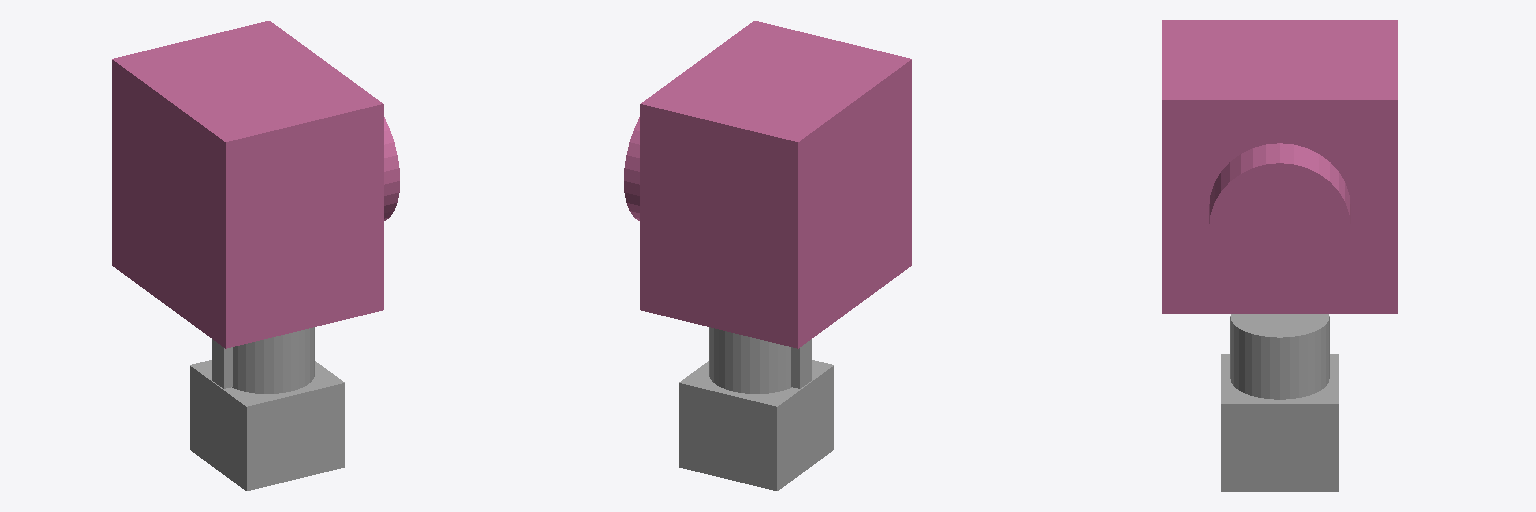
robot.urdf — robot:
<?xml version="1.0" ?>
<robot name="robot">
  <joint name="right_front" type="revolute">
    <parent link="base_link"/>
    <child link="right_front_wheel"/>
    <origin rpy="1.5707  0      0" xyz="0.125 -0.201  0.12"/>
    <axis xyz="0.00000000e+00   9.00000000e-05  -1.00000000e+00"/>
    <limit effort="0" lower="0" upper="0" velocity="0"/>
  </joint>
  <joint name="right_rear" type="revolute">
    <parent link="base_link"/>
    <child link="right_rear_wheel"/>
    <origin rpy="1.5707  0      0" xyz="-0.125 -0.201  0.12"/>
    <axis xyz="0.00000000e+00   9.00000000e-05  -1.00000000e+00"/>
    <limit effort="0" lower="0" upper="0" velocity="0"/>
  </joint>
  <joint name="left_front" type="revolute">
    <parent link="base_link"/>
    <child link="left_front_wheel"/>
    <origin rpy="1.5707  0      0" xyz="0.125  0.201  0.12"/>
    <axis xyz="0.00000000e+00   9.00000000e-05  -1.00000000e+00"/>
    <limit effort="0" lower="0" upper="0" velocity="0"/>
  </joint>
  <joint name="left_rear" type="revolute">
    <parent link="base_link"/>
    <child link="left_rear_wheel"/>
    <origin rpy="1.5707  0      0" xyz="-0.125  0.201  0.12"/>
    <axis xyz="0.00000000e+00   9.00000000e-05  -1.00000000e+00"/>
    <limit effort="0" lower="0" upper="0" velocity="0"/>
  </joint>
  <joint name="camera_joint" type="fixed">
    <parent link="base_link"/>
    <child link="camera_link"/>
    <origin rpy="0  0  0" xyz="0.1   0    0.45"/>
    <axis xyz="0  0  1"/>
    <limit effort="0.0" lower="0.0" upper="0.0" velocity="0.0"/>
  </joint>
  <joint name="hokuyo_joint" type="fixed">
    <parent link="base_link"/>
    <child link="hokuyo_link"/>
    <origin rpy="0  0  0" xyz="0.1   0    0.35"/>
    <axis xyz="0  0  1"/>
    <limit effort="0.0" lower="0.0" upper="0.0" velocity="0.0"/>
  </joint>
  <link name="dummy">
  </link>
  <link name="base_link">
    <inertial>
      <mass value="14.0"/>
      <origin rpy="0  0  0" xyz="0    0    0.18"/>
      <inertia ixx="0.147116667" ixy="0.0" ixz="0.0" iyy="0.334951167" iyz="0.0" izz="0.3978345"/>
    </inertial>
    <collision name="collision1">
      <origin rpy="0  0  0" xyz="0    0    0.18"/>
      <geometry>
        <box size="0.501 0.300 0.19"/>
      </geometry>
    </collision>
    <visual name="visual1">
      <origin rpy="0  0  0" xyz="0    0    0.18"/>
      <geometry>
        <mesh filename="package://rvrl_description/meshes/p3at/chassis.dae" scale="1.0 1.0 1.0"/>
      </geometry>
    </visual>
  </link>
  <joint name="dummy_joint" type="fixed">
    <parent link="dummy"/>
    <child link="base_link"/>
  </joint>
  <link name="right_front_wheel">
    <inertial>
      <mass value="1.5"/>
      <origin rpy="0  0  0" xyz="0  0  0"/>
      <inertia ixx="0.005240625" ixy="0" ixz="0" iyy="0.005240625" iyz="0" izz="0.009075"/>
    </inertial>
    <collision name="collision">
      <origin rpy="0  0  0" xyz="0  0  0"/>
      <geometry>
        <cylinder length="0.075" radius="0.110"/>
      </geometry>
    </collision>
    <visual name="visual">
      <origin rpy="0  0  0" xyz="0  0  0"/>
      <geometry>
        <mesh filename="package://rvrl_description/meshes/p3at/wheel.dae" scale="1.0 1.0 1.0"/>
      </geometry>
    </visual>
  </link>
  <link name="left_front_wheel">
    <inertial>
      <mass value="1.5"/>
      <origin rpy="0  0  0" xyz="0  0  0"/>
      <inertia ixx="0.005240625" ixy="0" ixz="0" iyy="0.005240625" iyz="0" izz="0.009075"/>
    </inertial>
    <collision name="collision">
      <origin rpy="0  0  0" xyz="0  0  0"/>
      <geometry>
        <cylinder length="0.075" radius="0.110"/>
      </geometry>
    </collision>
    <visual name="visual">
      <origin rpy="0  0  0" xyz="0  0  0"/>
      <geometry>
        <mesh filename="package://rvrl_description/meshes/p3at/wheel.dae" scale="1.0 1.0 1.0"/>
      </geometry>
    </visual>
  </link>
  <link name="right_rear_wheel">
    <inertial>
      <mass value="1.5"/>
      <origin rpy="0  0  0" xyz="0  0  0"/>
      <inertia ixx="0.005240625" ixy="0" ixz="0" iyy="0.005240625" iyz="0" izz="0.009075"/>
    </inertial>
    <collision name="collision">
      <origin rpy="0  0  0" xyz="0  0  0"/>
      <geometry>
        <cylinder length="0.075" radius="0.110"/>
      </geometry>
    </collision>
    <visual name="visual">
      <origin rpy="0  0  0" xyz="0  0  0"/>
      <geometry>
        <mesh filename="package://rvrl_description/meshes/p3at/wheel.dae" scale="1.0 1.0 1.0"/>
      </geometry>
    </visual>
  </link>
  <link name="left_rear_wheel">
    <inertial>
      <mass value="1.5"/>
      <origin rpy="0  0  0" xyz="0  0  0"/>
      <inertia ixx="0.005240625" ixy="0" ixz="0" iyy="0.005240625" iyz="0" izz="0.009075"/>
    </inertial>
    <collision name="collision">
      <origin rpy="0  0  0" xyz="0  0  0"/>
      <geometry>
        <cylinder length="0.075" radius="0.110"/>
      </geometry>
    </collision>
    <visual name="visual">
      <origin rpy="0  0  0" xyz="0  0  0"/>
      <geometry>
        <mesh filename="package://rvrl_description/meshes/p3at/wheel.dae" scale="1.0 1.0 1.0"/>
      </geometry>
    </visual>
  </link>
  <link name="camera_link">
    <inertial>
      <mass value="0.1"/>
      <origin rpy="0  0  0" xyz="0  0  0"/>
      <inertia ixx="0.000166667" ixy="0" ixz="0" iyy="0.000166667" iyz="0" izz="0.000166667"/>
    </inertial>
    <collision name="collision-box">
      <origin rpy="0  0  0" xyz="-0.01  0    0"/>
      <geometry>
        <box size="0.08 0.1 0.1"/>
      </geometry>
    </collision>
    <collision name="collision-lens">
      <origin rpy="0    1.57  0" xyz="0.04  0    0"/>
      <geometry>
        <cylinder length="0.02" radius="0.03"/>
      </geometry>
    </collision>
    <visual name="visual-box">
      <origin rpy="0  0  0" xyz="-0.01  0    0"/>
      <geometry>
        <box size="0.08 0.1 0.1"/>
      </geometry>
    </visual>
    <visual name="visual-lens">
      <origin rpy="0    1.57  0" xyz="0.04  0    0"/>
      <geometry>
        <cylinder length="0.02" radius="0.03"/>
      </geometry>
    </visual>
  </link>
  <link name="hokuyo_link">
    <inertial>
      <mass value="0.1"/>
      <origin rpy="0  0  0" xyz="0  0  0"/>
      <inertia ixx="0.6205208333e-04" ixy="0" ixz="0" iyy="0.6205208333e-04" iyz="0" izz="4.1927083333e-05"/>
    </inertial>
    <collision name="collision-base">
      <origin rpy="0  0  0" xyz="0      0     -0.0145"/>
      <geometry>
        <box size="0.05 0.05 0.041"/>
      </geometry>
    </collision>
    <collision name="collision-top">
      <origin rpy="0  0  0" xyz="0      0      0.0205"/>
      <geometry>
        <cylinder length="0.029" radius="0.021"/>
      </geometry>
    </collision>
    <visual name="visual-base">
      <origin rpy="0  0  0" xyz="0      0     -0.0145"/>
      <geometry>
        <box size="0.05 0.05 0.041"/>
      </geometry>
    </visual>
    <visual name="visual-top">
      <origin rpy="0  0  0" xyz="0      0      0.0205"/>
      <geometry>
        <cylinder length="0.029" radius="0.021"/>
      </geometry>
    </visual>
    <visual name="visual-top-back">
      <origin rpy="0  0  0" xyz="-0.02   0     0.019"/>
      <geometry>
        <box size="0.01 0.01 0.025"/>
      </geometry>
    </visual>
  </link>
  <transmission name="right_front_transmssion">
    <type>transmission_interface/SimpleTransmission</type>
    <joint name="right_front">
      <hardwareInterface>hardware_interface/EffortJointInterface</hardwareInterface>
      <mechanicalReduction>1</mechanicalReduction>
    </joint>
    <actuator name="right_front_motor">
      <hardwareInterface>hardware_interface/EffortJointInterface</hardwareInterface>
      <mechanicalReduction>1</mechanicalReduction>
    </actuator>
  </transmission>
  <transmission name="right_rear_transmssion">
    <type>transmission_interface/SimpleTransmission</type>
    <joint name="right_rear">
      <hardwareInterface>hardware_interface/EffortJointInterface</hardwareInterface>
      <mechanicalReduction>1</mechanicalReduction>
    </joint>
    <actuator name="right_rear_motor">
      <hardwareInterface>hardware_interface/EffortJointInterface</hardwareInterface>
      <mechanicalReduction>1</mechanicalReduction>
    </actuator>
  </transmission>
  <transmission name="left_front_transmssion">
    <type>transmission_interface/SimpleTransmission</type>
    <joint name="left_front">
      <hardwareInterface>hardware_interface/EffortJointInterface</hardwareInterface>
      <mechanicalReduction>1</mechanicalReduction>
    </joint>
    <actuator name="left_front_motor">
      <hardwareInterface>hardware_interface/EffortJointInterface</hardwareInterface>
      <mechanicalReduction>1</mechanicalReduction>
    </actuator>
  </transmission>
  <transmission name="left_rear_transmssion">
    <type>transmission_interface/SimpleTransmission</type>
    <joint name="left_rear">
      <hardwareInterface>hardware_interface/EffortJointInterface</hardwareInterface>
      <mechanicalReduction>1</mechanicalReduction>
    </joint>
    <actuator name="left_rear_motor">
      <hardwareInterface>hardware_interface/EffortJointInterface</hardwareInterface>
      <mechanicalReduction>1</mechanicalReduction>
    </actuator>
  </transmission>
</robot>

--- Facts derived from the render (not from the file) ---
3 views of the same robot in one strip: view 1: azimuth 30°, elevation 25°; view 2: azimuth 150°, elevation 25°; view 3: azimuth 270°, elevation 25° (orthographic).
Robot: robot — 8 links, 7 joints (4 revolute, 3 fixed); root link dummy; default pose: all joints at 0.
Links seen in each view (by area): view 1: camera_link, hokuyo_link; view 2: camera_link, hokuyo_link; view 3: camera_link, hokuyo_link.
Link boxes in pixels (box(x1,y1,x2,y2)): camera_link: box(112, 21, 399, 348); hokuyo_link: box(190, 327, 344, 490); camera_link: box(624, 21, 911, 348); hokuyo_link: box(679, 327, 833, 490); camera_link: box(1162, 20, 1397, 313); hokuyo_link: box(1221, 314, 1338, 491).
Bounding box of the posed robot: 0.1 × 0.1 × 0.185 m (x, y, z).
Meshes: 2 distinct files referenced, 0 mesh visuals loaded (none loaded); not drawn: 5 (reference not matched to a file when rendering).